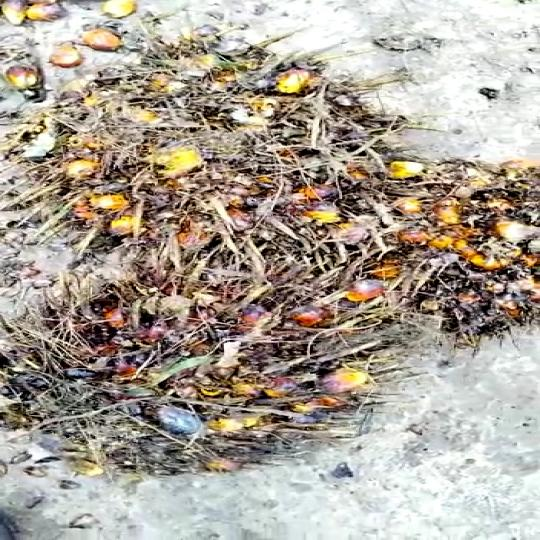terlalu masak: (0, 260, 403, 473), (0, 65, 422, 245)
